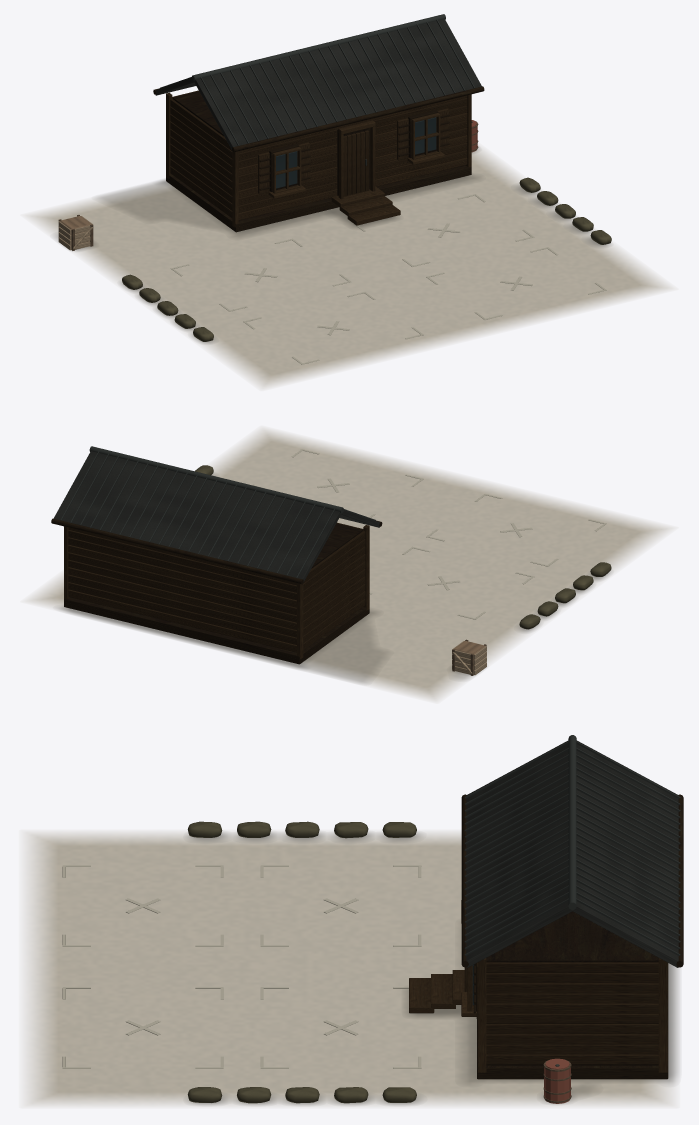
The model's file is reference_barracks.glb.
3 renders of one model, top to bottom at view 1: azimuth 30°, elevation 25°; view 2: azimuth 150°, elevation 25°; view 3: azimuth 270°, elevation 25°, orthographic. The views are drawn at different scales.
Visible parts, largest first — view 1: 4x4 yard footprint, Weathered roof covering, Weathered timber, Timber worn edges (×2), Dark endgrain, Oxidized dark steel, Baked barracks contact shadow, Olive canvas, Worn assembly chalk, Recessed blue grey glass; view 2: 4x4 yard footprint, Weathered roof covering, Weathered timber, Timber worn edges (×2), Dark endgrain, Oxidized dark steel, Baked barracks contact shadow, Olive canvas, Worn assembly chalk; view 3: 4x4 yard footprint, Weathered roof covering, Weathered timber, Oxidized dark steel, Dark endgrain, Olive canvas, Baked barracks contact shadow, Timber worn edges, Worn assembly chalk, Oxide red drums.
Part boxes in pixels (box(x1,y1,x2,y2)): 4x4 yard footprint: box(28, 148, 670, 387); Weathered roof covering: box(155, 19, 481, 151); Weathered timber: box(170, 98, 467, 225); Timber worn edges (×2): box(58, 90, 471, 250); Dark endgrain: box(153, 86, 484, 232); Oxidized dark steel: box(159, 14, 474, 165); Baked barracks contact shadow: box(57, 151, 608, 342); Olive canvas: box(122, 177, 611, 341); Worn assembly chalk: box(170, 194, 606, 364); Recessed blue grey glass: box(276, 117, 436, 188); 4x4 yard footprint: box(28, 429, 670, 700); Weathered roof covering: box(53, 451, 379, 582); Weathered timber: box(68, 530, 365, 650); Timber worn edges (×2): box(64, 522, 486, 675); Dark endgrain: box(51, 518, 382, 664); Oxidized dark steel: box(60, 446, 375, 578); Baked barracks contact shadow: box(60, 474, 609, 681); Olive canvas: box(195, 465, 611, 629); Worn assembly chalk: box(252, 449, 606, 619); 4x4 yard footprint: box(27, 833, 671, 1104); Weathered roof covering: box(466, 740, 678, 967); Weathered timber: box(409, 962, 658, 1064); Oxidized dark steel: box(464, 735, 680, 955); Dark endgrain: box(461, 794, 683, 1079); Olive canvas: box(187, 821, 416, 1103); Baked barracks contact shadow: box(189, 833, 677, 1104); Timber worn edges: box(461, 900, 667, 1072); Worn assembly chalk: box(62, 865, 421, 1068); Oxide red drums: box(544, 1058, 570, 1103).
Bounding box in the file's own units: 4 × 1.21 × 4.
16 materials, 11 textured.
